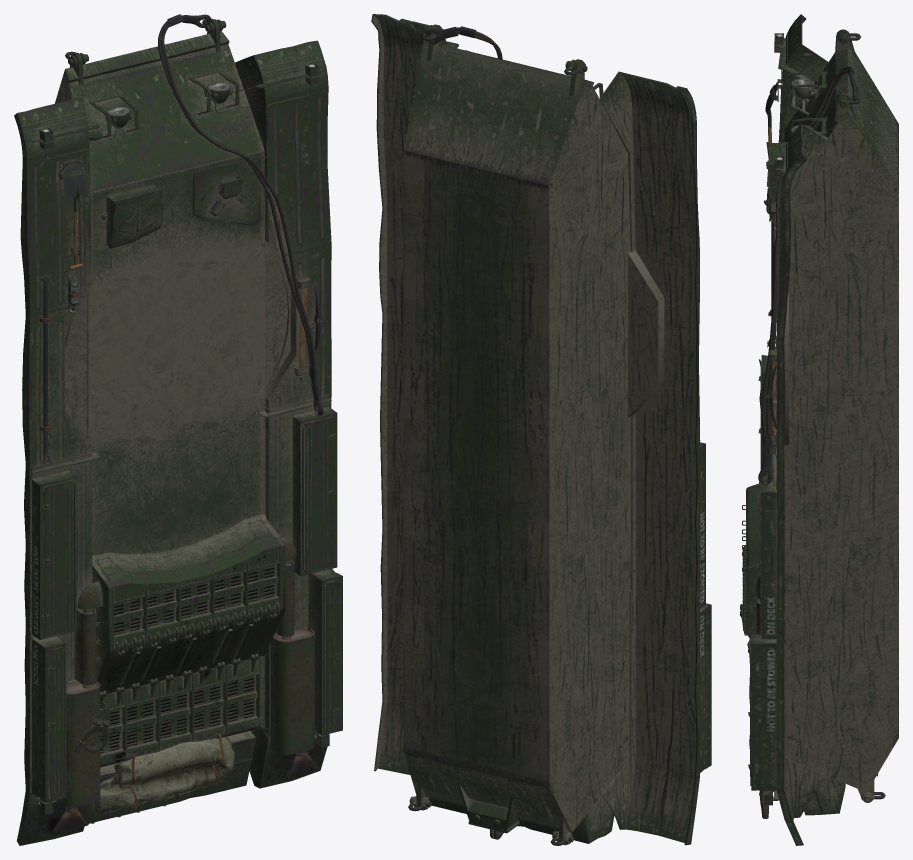
File: Hull.glb
The picture shows the model from 3 angles, left to right: view 1: azimuth 30°, elevation 25°; view 2: azimuth 150°, elevation 25°; view 3: azimuth 270°, elevation 25°; orthographic projection. The views are drawn at different scales.
Visible parts, largest first — view 1: set_0_group_0; view 2: set_0_group_0; view 3: set_0_group_0.
Boxes of the visible parts, <box> form: set_0_group_0: <box>14,14,342,845</box>; set_0_group_0: <box>371,14,711,845</box>; set_0_group_0: <box>740,14,898,845</box>.
Size of the model in its own units: 2.92 by 6.96 by 1.37.
Materials: 1 (1 with a texture image).
